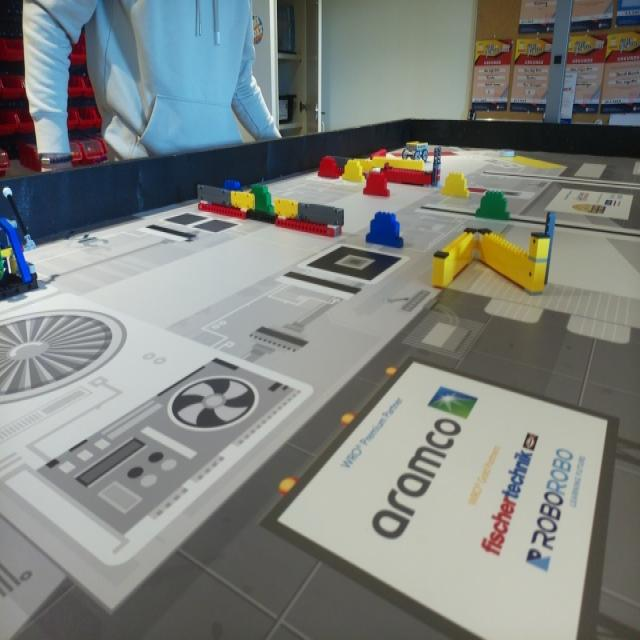blau: (368, 211, 403, 247), (226, 178, 240, 190)
gruen: (476, 190, 511, 221), (253, 185, 276, 218)
rot: (366, 170, 390, 196), (318, 154, 338, 180)
yellow: (442, 172, 471, 198), (344, 162, 361, 179)
